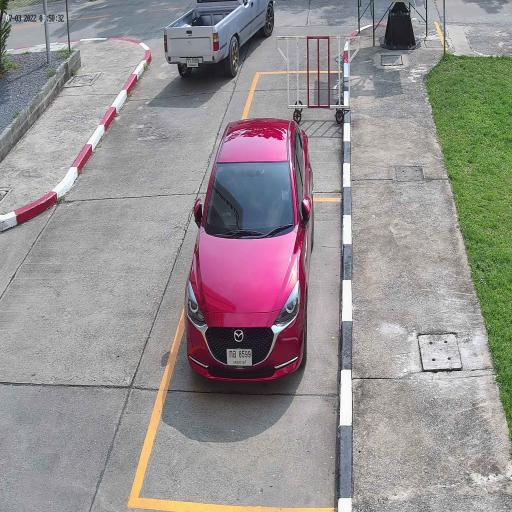car: (184, 116, 315, 384), (163, 0, 276, 79)
